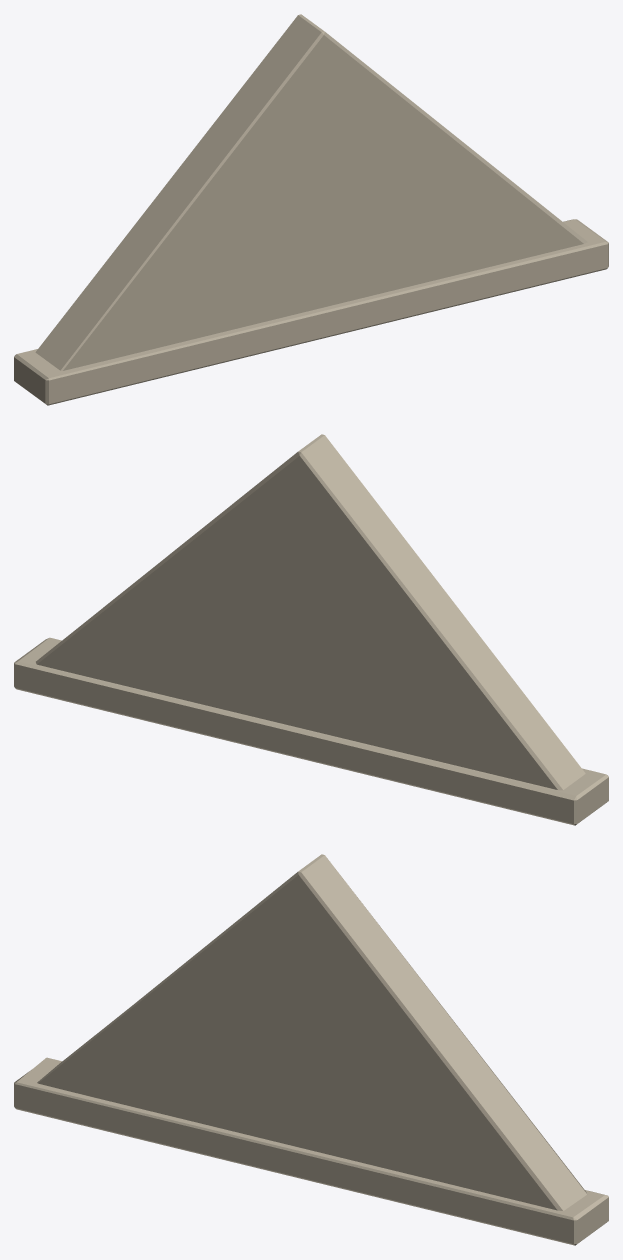
Rendered from gable_win_r6.fbx.
The picture shows the model from 3 angles, top to bottom: view 1: azimuth 30°, elevation 25°; view 2: azimuth 150°, elevation 25°; view 3: azimuth 330°, elevation 25°; orthographic projection.
Parts seen in each view (by area): view 1: gable_win_r6; view 2: gable_win_r6; view 3: gable_win_r6.
Boxes of the visible parts, x1,y1,x2,y2 form: gable_win_r6: (14,14,608,405); gable_win_r6: (14,434,608,825); gable_win_r6: (14,854,608,1245).
Size of the model in its own units: 1240 by 636 by 130.
